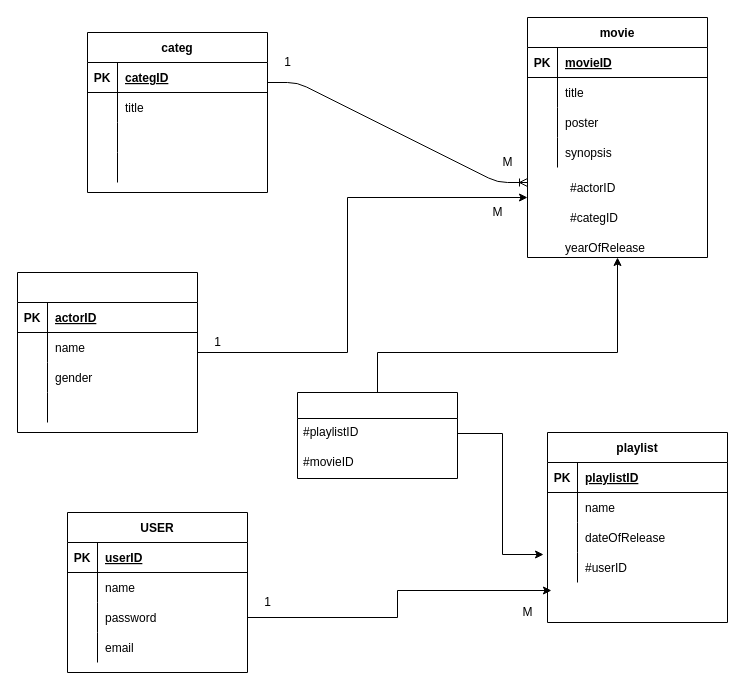
Image size: 745x690. Some labels were removed from this diagram. The box of each missing label's shape, as (x1, y1, x2, y2) in pixels:
Actors: (16, 272, 198, 432)
palylistContent: (296, 392, 458, 478)
